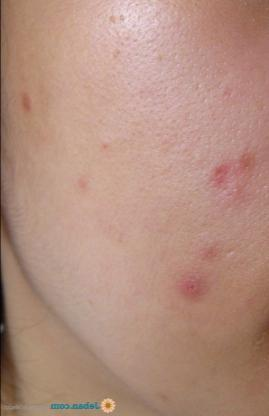Papules: (166, 266, 212, 312), (195, 154, 238, 192), (12, 75, 45, 123), (215, 174, 249, 209)
acne scar: (184, 229, 231, 268)
